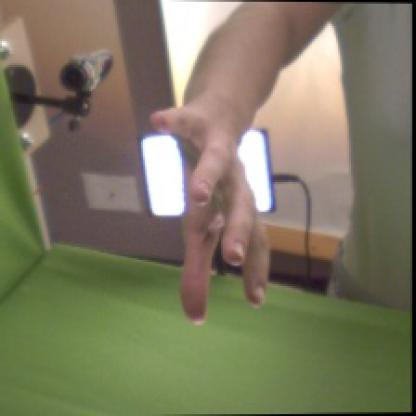Hand: (150, 104, 272, 326)
